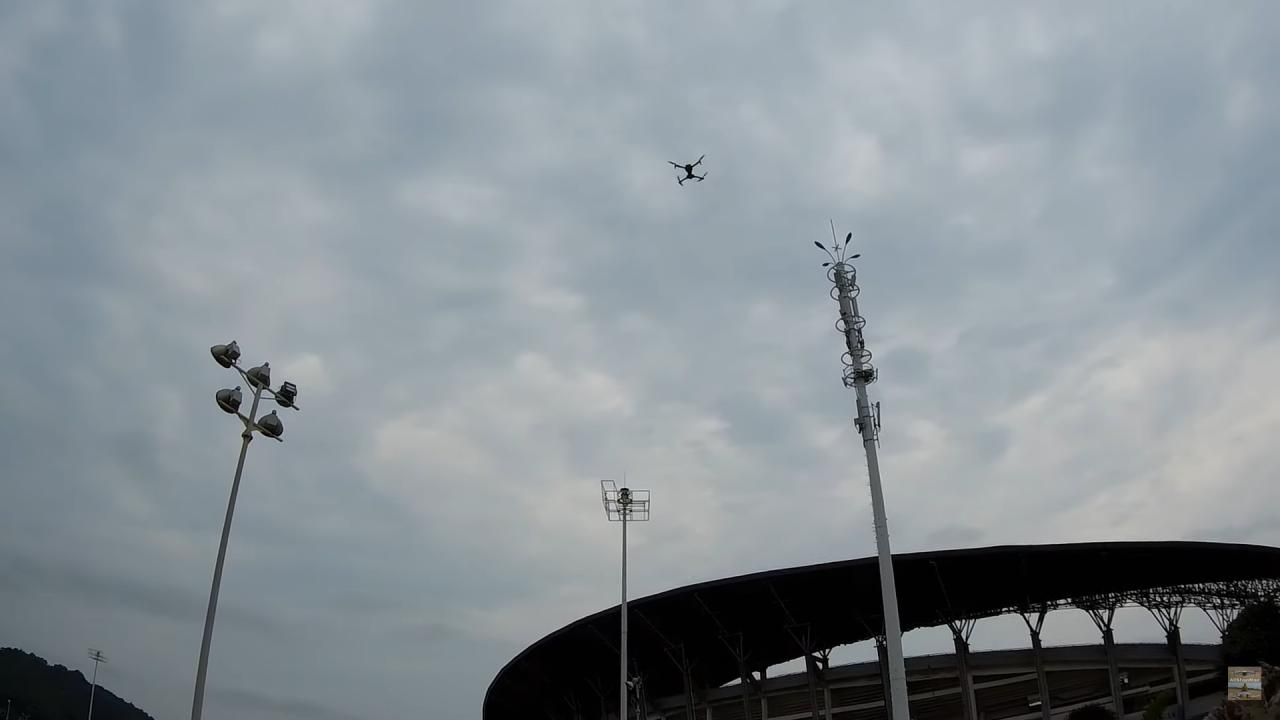Drone: (661, 150, 722, 190)
